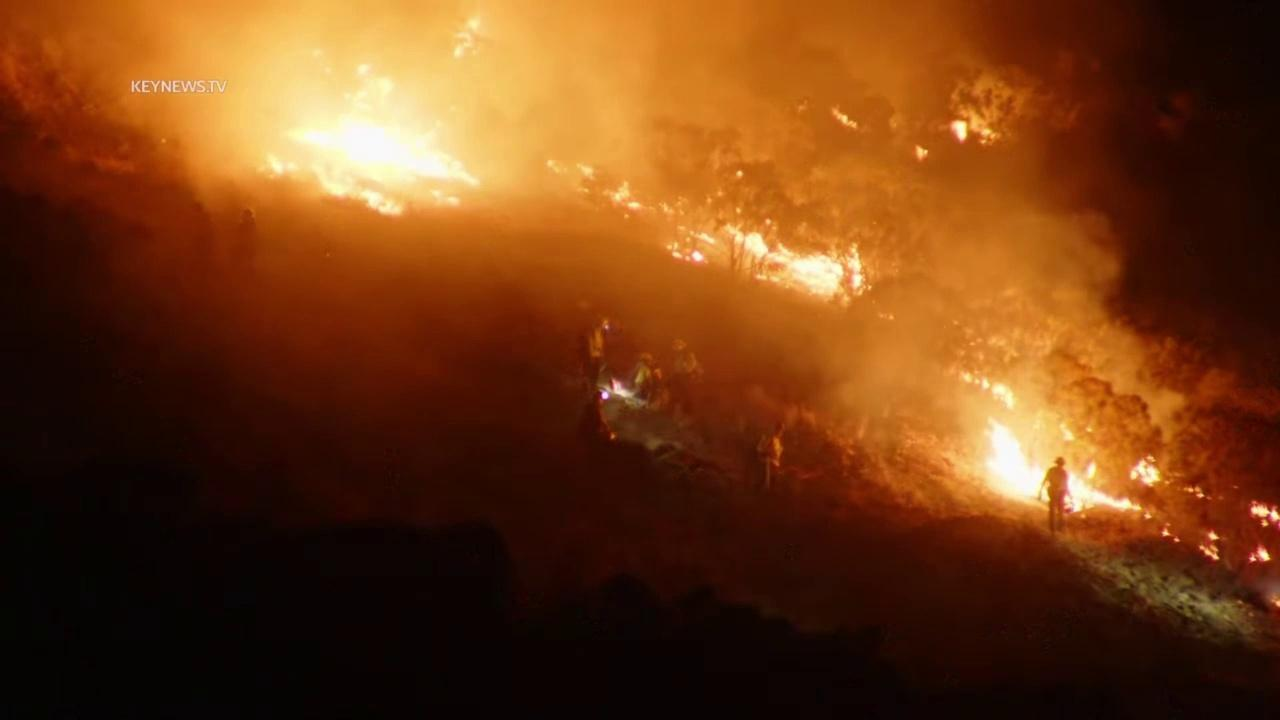fire: (255, 50, 485, 221), (981, 415, 1145, 515), (723, 216, 874, 306), (573, 154, 645, 217), (958, 367, 1017, 410), (448, 10, 485, 61), (1128, 453, 1162, 488), (1246, 498, 1280, 529), (1196, 527, 1223, 563), (830, 105, 861, 131), (678, 224, 717, 244), (944, 119, 971, 144), (670, 247, 705, 266), (1247, 542, 1273, 566), (975, 126, 999, 146), (1161, 524, 1180, 544), (913, 143, 930, 162), (1182, 486, 1205, 499), (1267, 591, 1280, 610), (734, 167, 745, 180)
smoke: (0, 0, 1280, 635)
